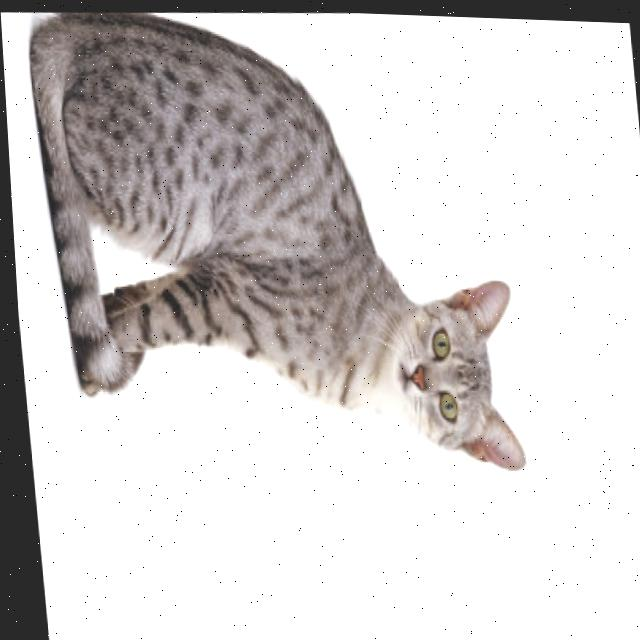Egyptian Mau: (22, 1, 531, 486)
